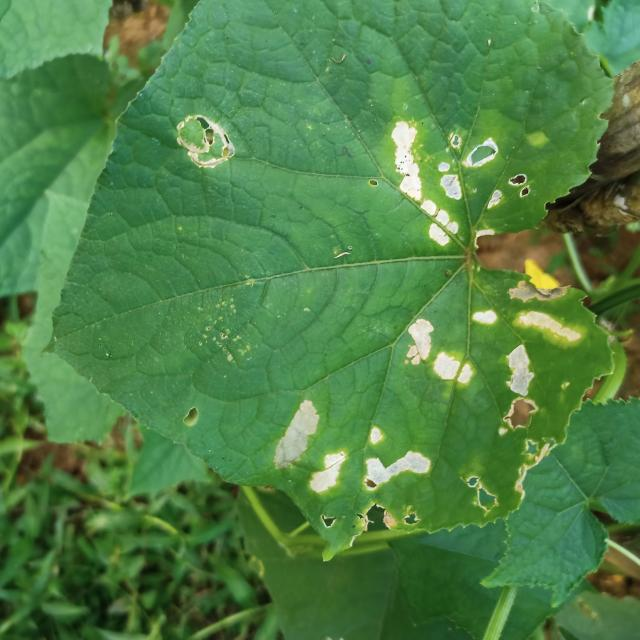disease_cucumber: (384, 116, 533, 257), (500, 277, 582, 434), (396, 306, 497, 388), (272, 396, 350, 497), (359, 424, 441, 495)
